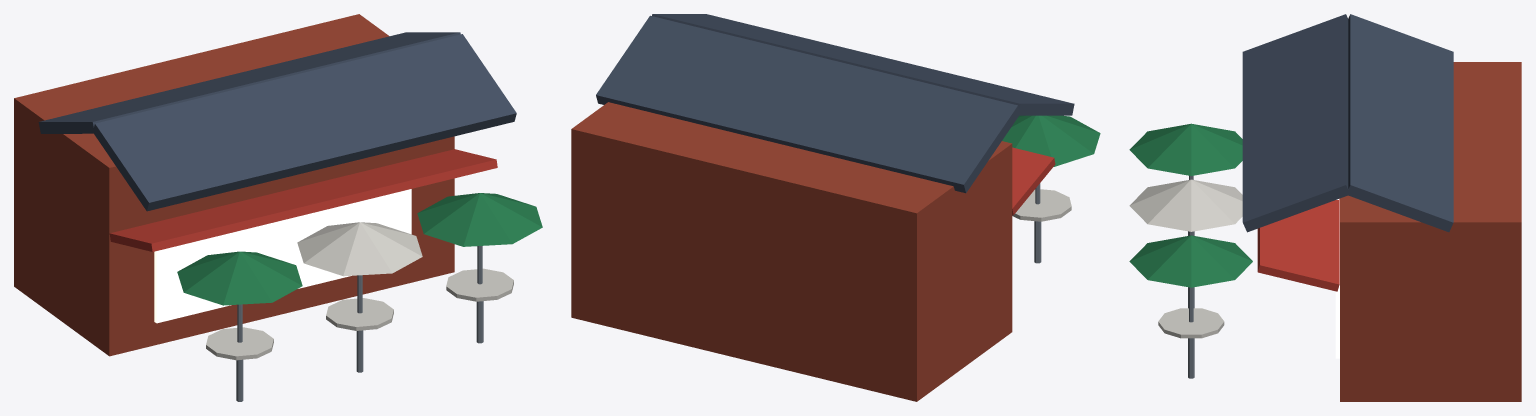
The model's file is prop-cafe.glb.
3 views of the same model, side by side, from view 1: azimuth 30°, elevation 25°; view 2: azimuth 150°, elevation 25°; view 3: azimuth 270°, elevation 25° (orthographic). The views are drawn at different scales.
Visible parts, largest first — view 1: cw_paint, cw_glow; view 2: cw_paint; view 3: cw_paint, cw_glow.
Part boxes in pixels (x1,y1,x2,y2): cw_paint: (14,14,542,401); cw_glow: (154,189,411,323); cw_paint: (571,14,1100,401); cw_paint: (1129,14,1521,401); cw_glow: (1335,199,1339,358).
Size of the model in its own units: 4.9 by 2.97 by 4.75.
